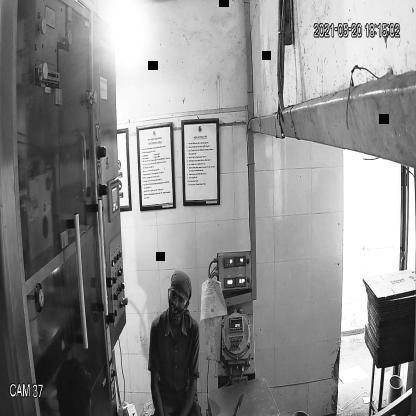goggles: (166, 289, 190, 310)
